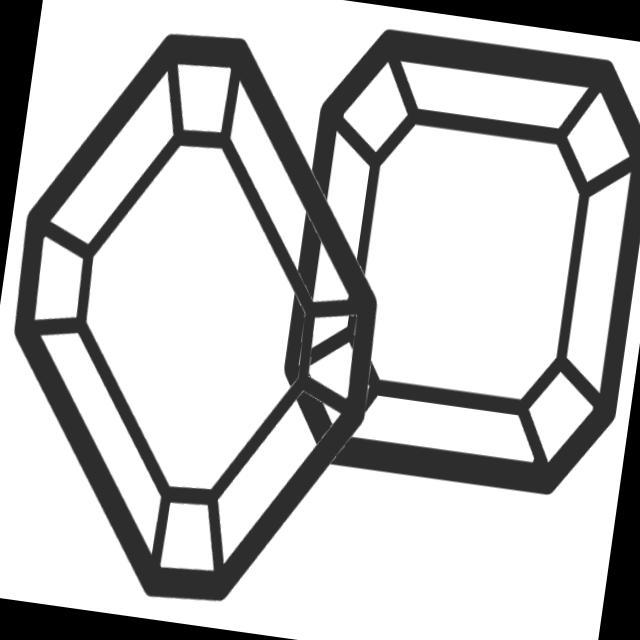emerald: (1, 1, 415, 636), (263, 8, 640, 515)
